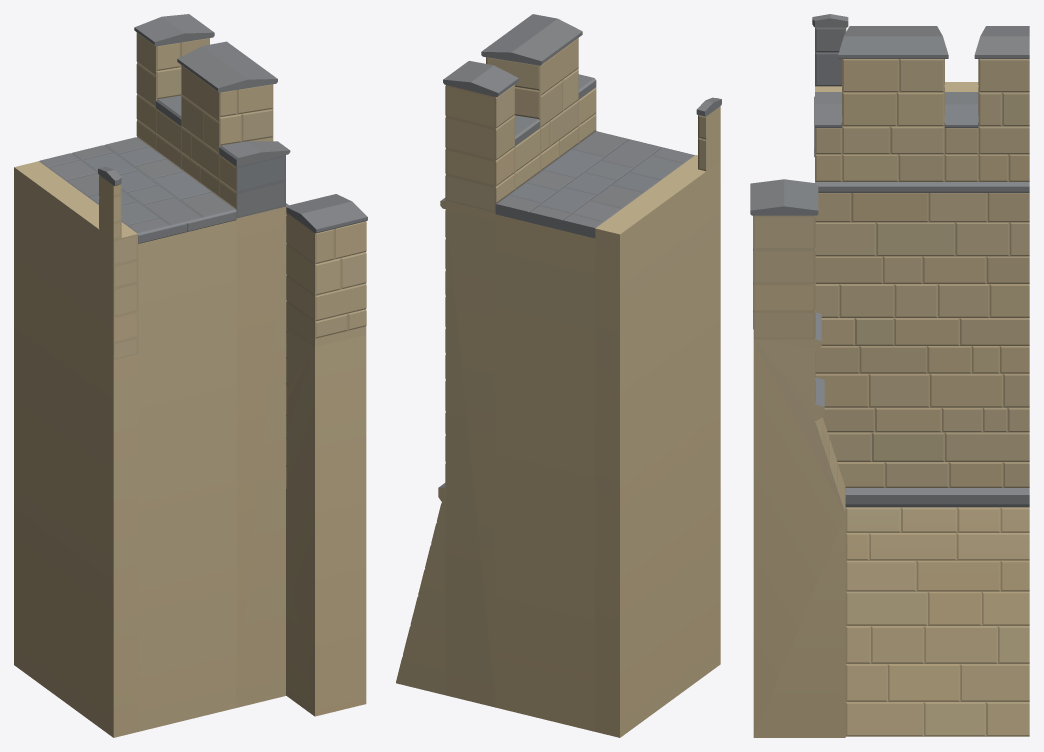
3 renders of one model, left to right at view 1: azimuth 30°, elevation 25°; view 2: azimuth 150°, elevation 25°; view 3: azimuth 270°, elevation 25°, orthographic. The views are drawn at different scales.
Visible parts, largest first — view 1: Mesh_Limestone, Mesh_Granite; view 2: Mesh_Limestone, Mesh_Granite; view 3: Mesh_Limestone, Mesh_Granite.
Boxes of the visible parts, x1,y1,x2,y2 form: Mesh_Limestone: (14,32,366,737); Mesh_Granite: (39,14,367,243); Mesh_Limestone: (396,38,720,737); Mesh_Granite: (438,14,721,487); Mesh_Limestone: (753,28,1029,737); Mesh_Granite: (750,14,1029,507).
Size of the model in its own units: 4.1 by 10.7 by 4.1.
